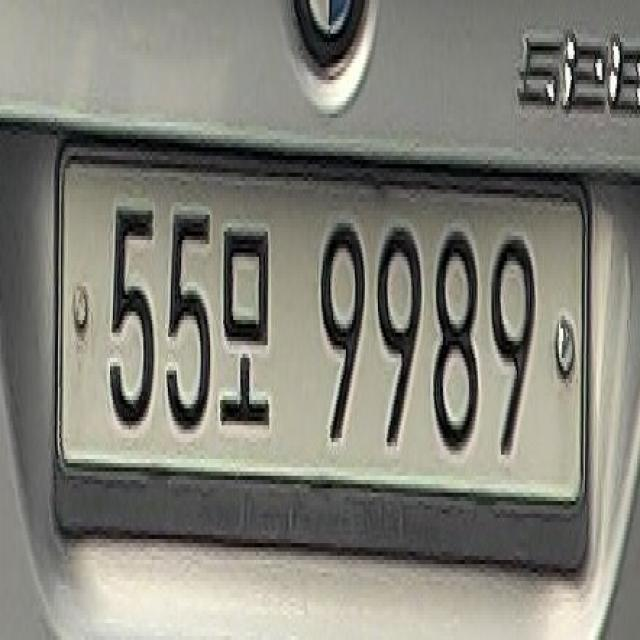5: (102, 170, 156, 437), (163, 190, 213, 432)
8: (428, 195, 481, 459)
9: (312, 198, 367, 452), (370, 198, 424, 454), (489, 208, 541, 466)
license_plate: (45, 124, 602, 606)
mo: (218, 194, 275, 445)
